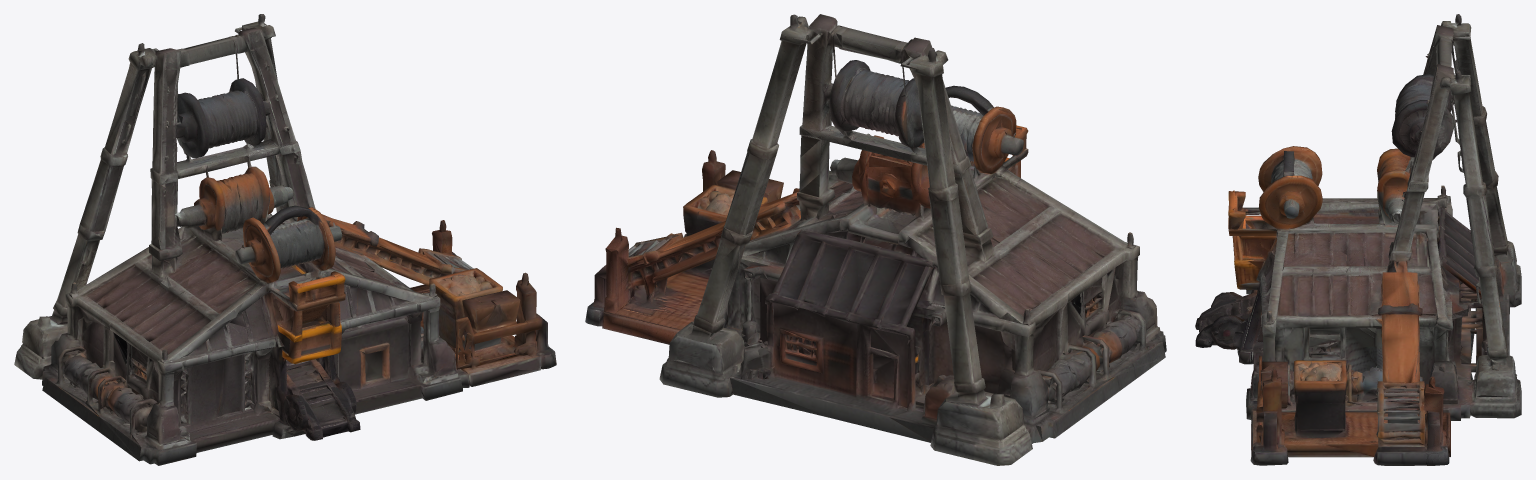
The model's file is ore-mine.glb.
The picture shows the model from 3 angles, left to right: view 1: azimuth 30°, elevation 25°; view 2: azimuth 150°, elevation 25°; view 3: azimuth 270°, elevation 25°; orthographic projection. The views are drawn at different scales.
Visible parts, largest first — view 1: mesh_node; view 2: mesh_node; view 3: mesh_node.
Part boxes in pixels (x1,y1,x2,y2): mesh_node: (14, 14, 556, 465); mesh_node: (585, 14, 1166, 465); mesh_node: (1195, 14, 1521, 465).
Size of the model in its own units: 1.9 by 1.4 by 1.35.
Materials: 1 (1 with a texture image).
